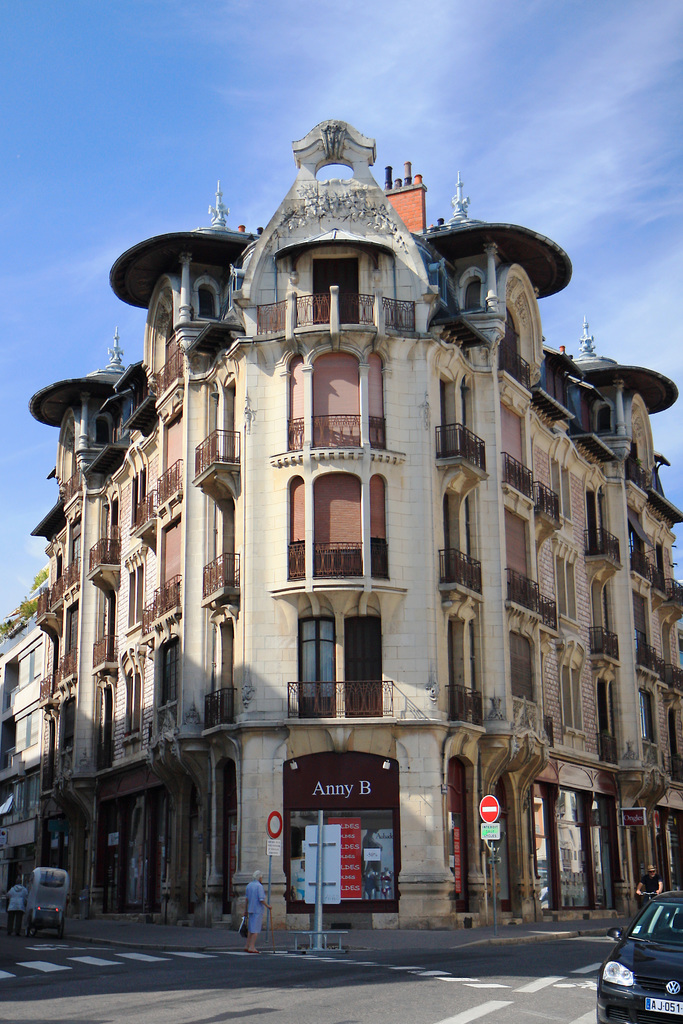Car: (590, 904, 683, 1017)
